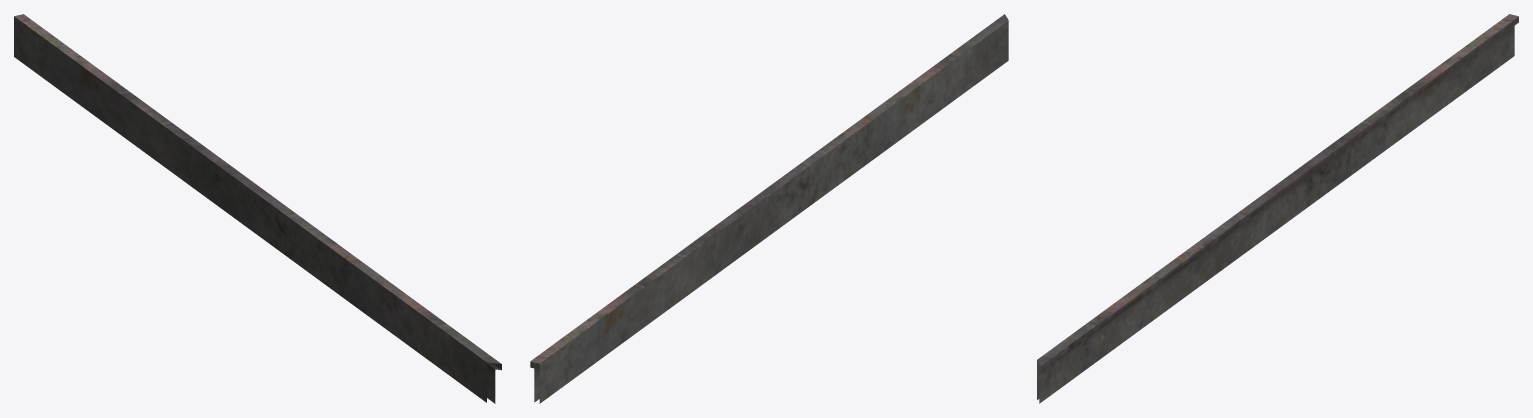
Rendered from RoofWall_06.FBX.
The picture shows the model from 3 angles, left to right: view 1: azimuth 30°, elevation 25°; view 2: azimuth 150°, elevation 25°; view 3: azimuth 330°, elevation 25°; orthographic projection.
Parts seen in each view (by area): view 1: RoofWall_06; view 2: RoofWall_06; view 3: RoofWall_06.
Boxes of the visible parts, left/top/right/bottom form: RoofWall_06: left=14, top=14, right=501, bottom=403; RoofWall_06: left=530, top=14, right=1008, bottom=403; RoofWall_06: left=1037, top=14, right=1518, bottom=403.
Bounding box in the file's own units: 22.66 × 92.93 × 1982.
